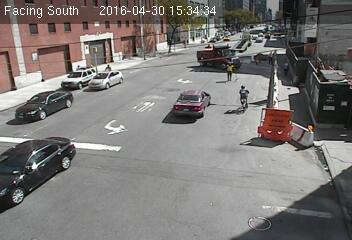neg: (227, 83, 250, 113), (155, 37, 172, 61), (101, 32, 116, 51), (133, 41, 147, 61), (85, 44, 98, 61)
pos: (223, 61, 239, 83), (281, 60, 296, 79)
